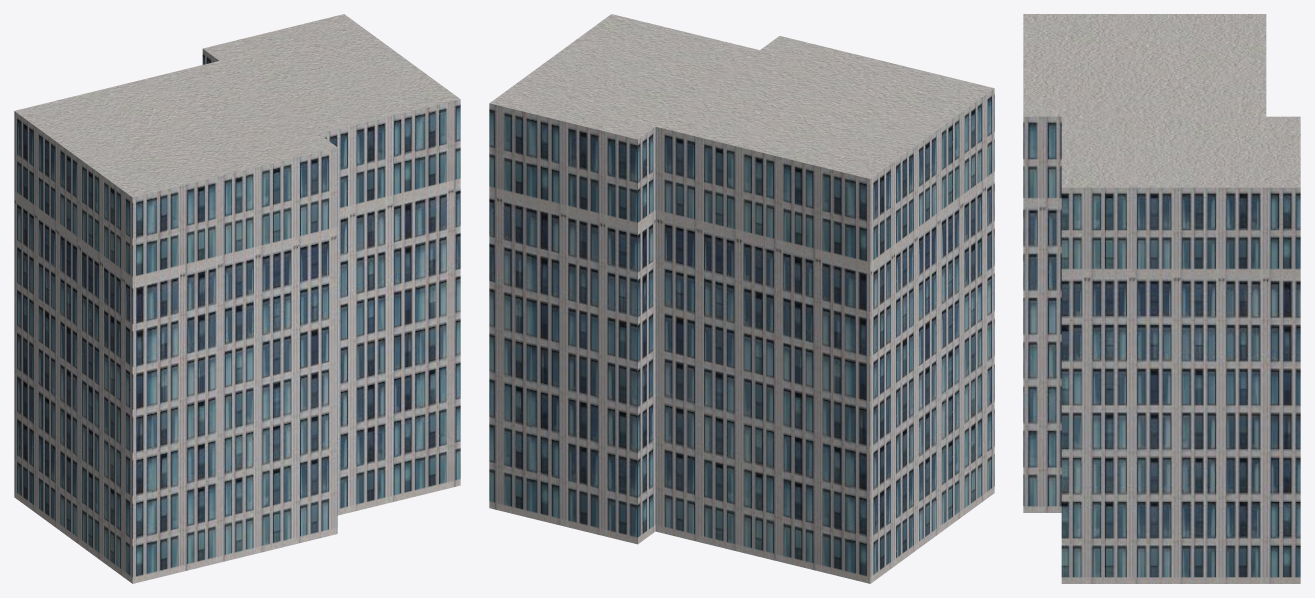
File: building_007_002.glb
3 renders of one model, left to right at view 1: azimuth 30°, elevation 25°; view 2: azimuth 150°, elevation 25°; view 3: azimuth 270°, elevation 25°, orthographic. The views are drawn at different scales.
Parts seen in each view (by area): view 1: building_007.002; view 2: building_007.002; view 3: building_007.002.
Part boxes in pixels (x1,y1,x2,y2): building_007.002: (14,14,460,583); building_007.002: (489,14,994,583); building_007.002: (1023,14,1300,583).
Size of the model in its own units: 1691 by 1800 by 1142.
2 materials, 2 textured.
